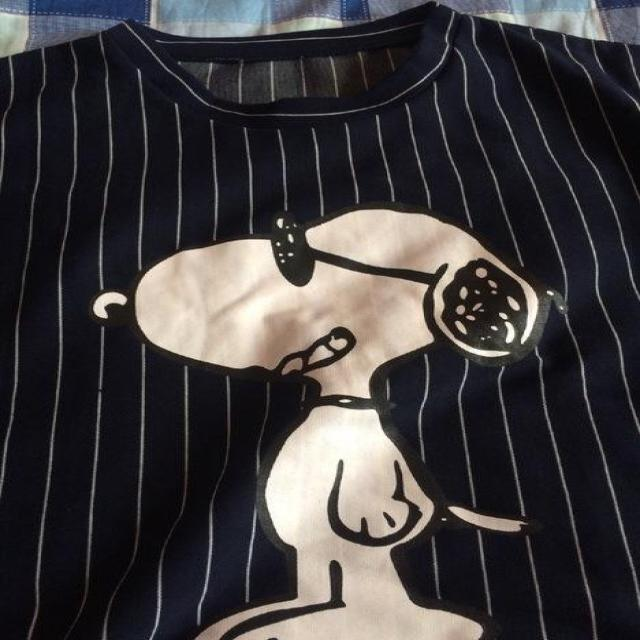short-sleeve-top: (16, 18, 639, 620)
